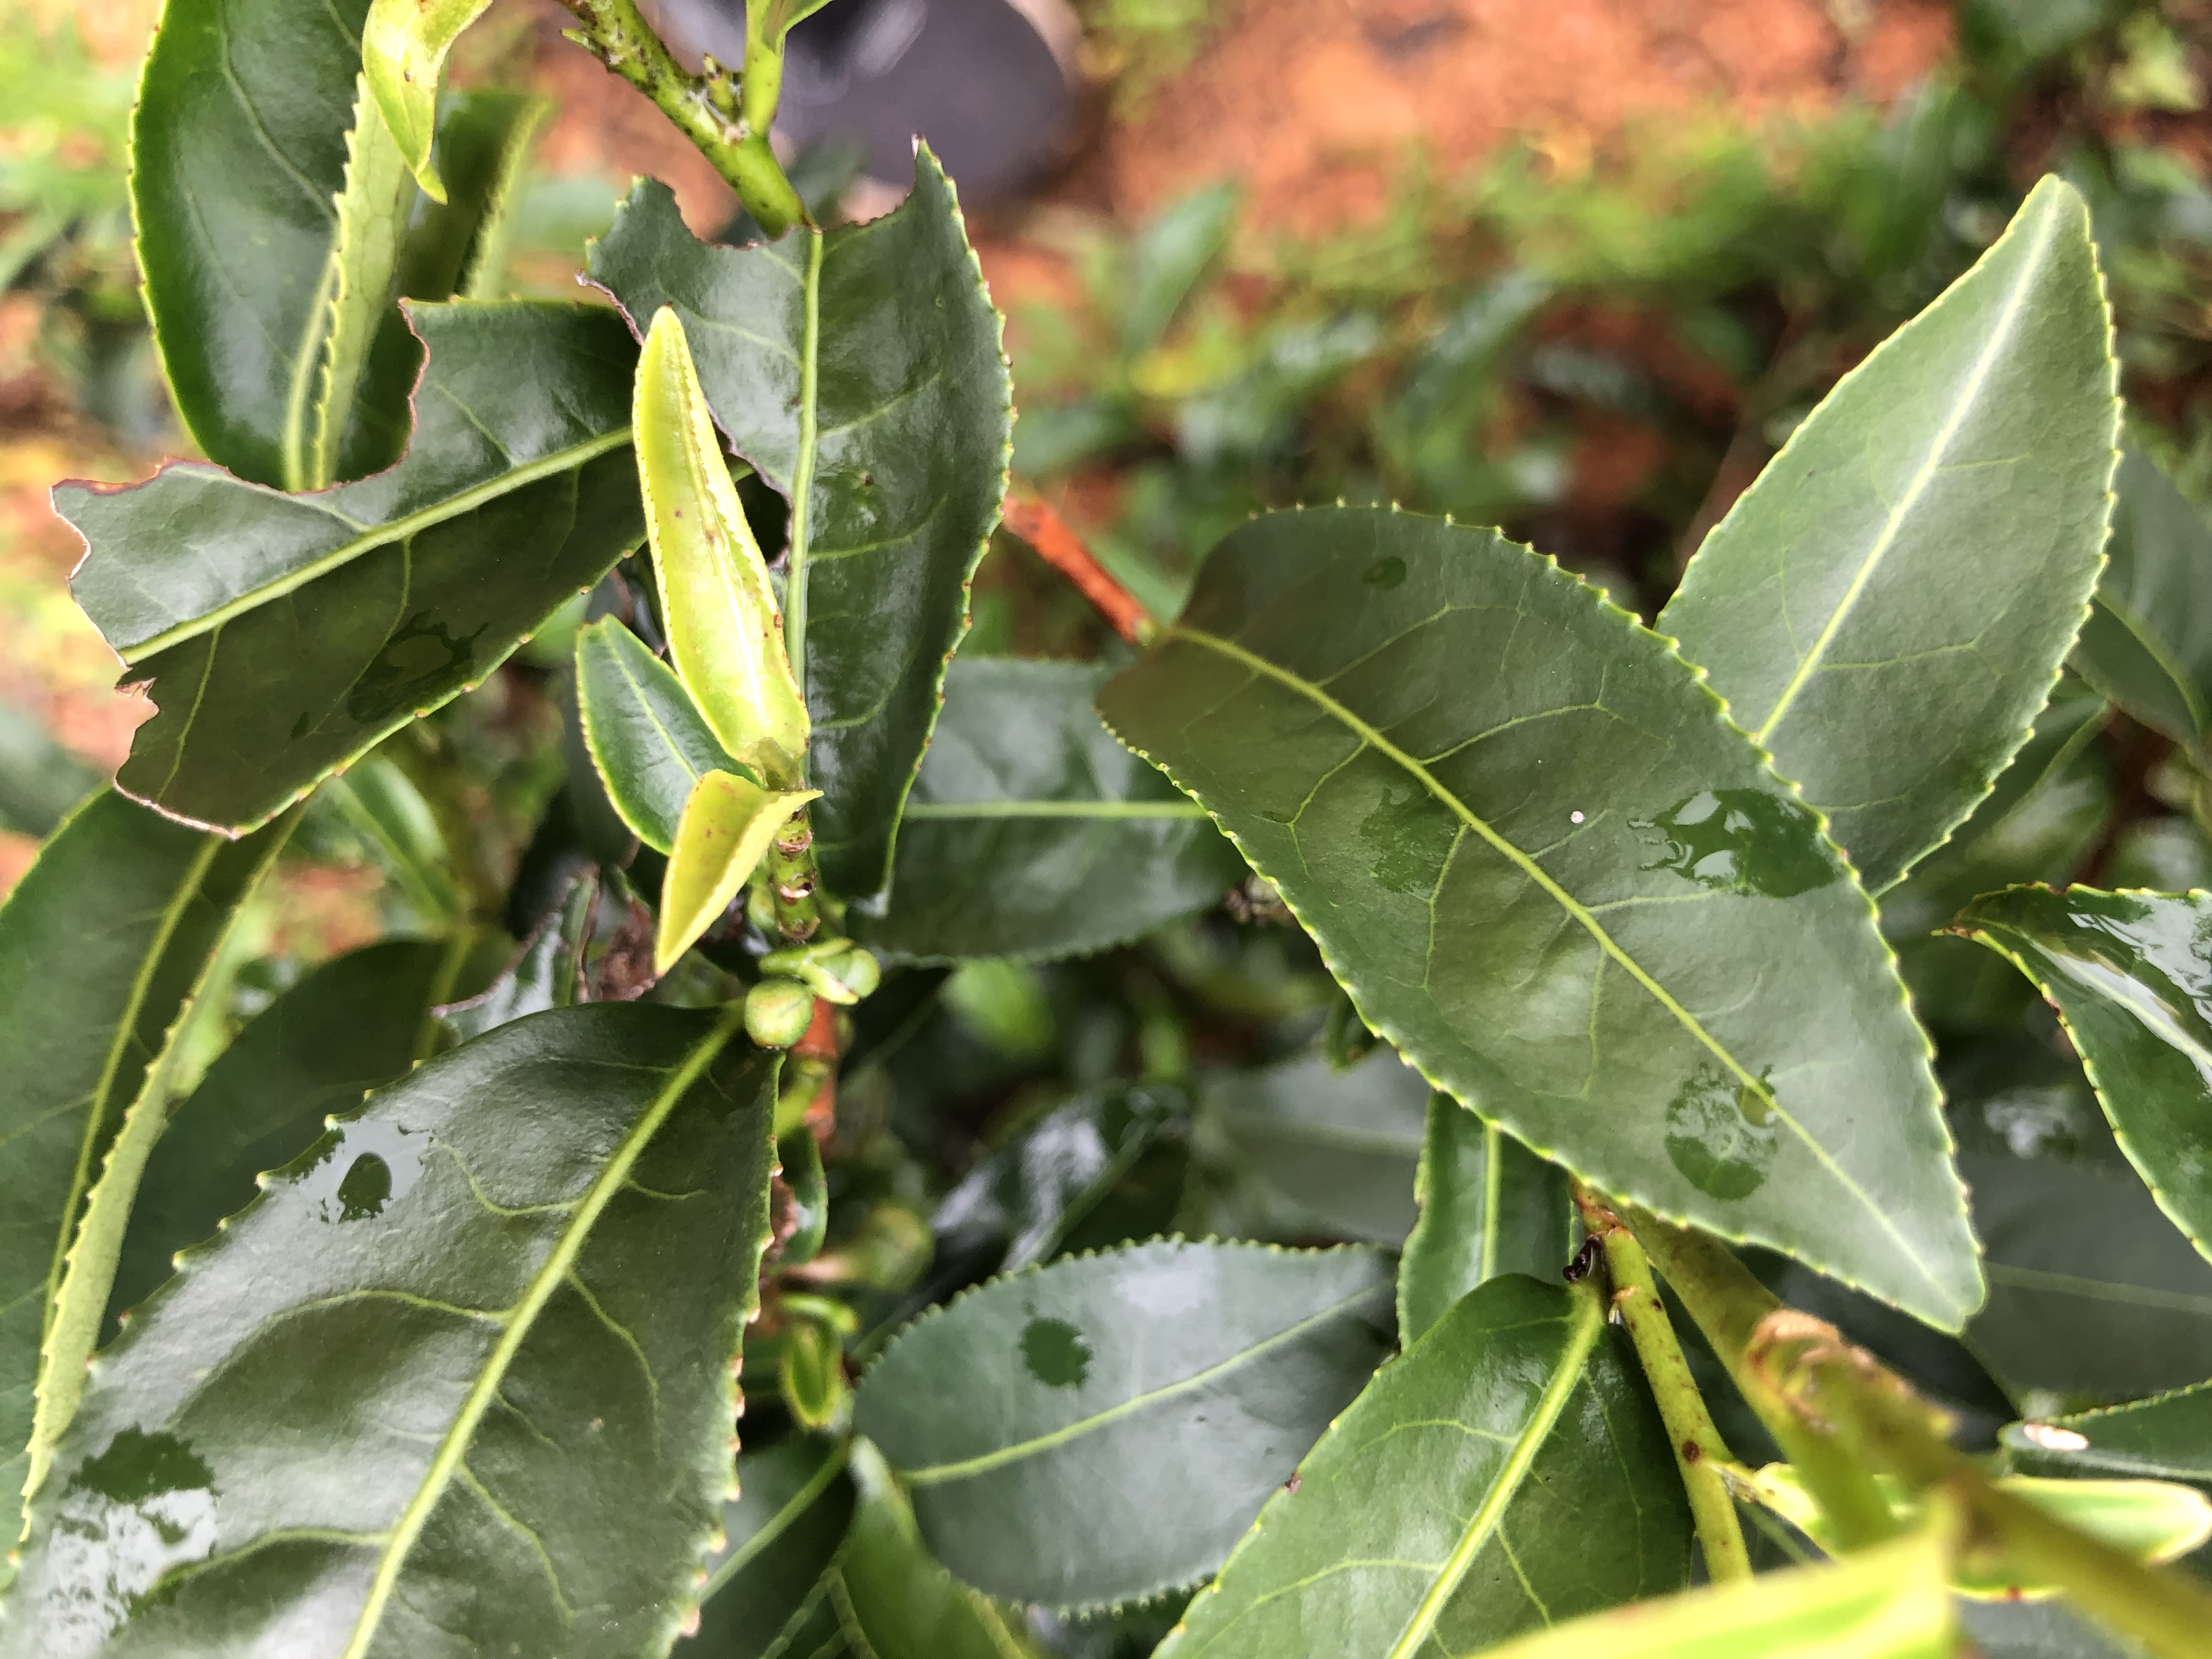formosa: (622, 317, 801, 756), (643, 775, 786, 965)
miner: (1099, 507, 1977, 1305)
